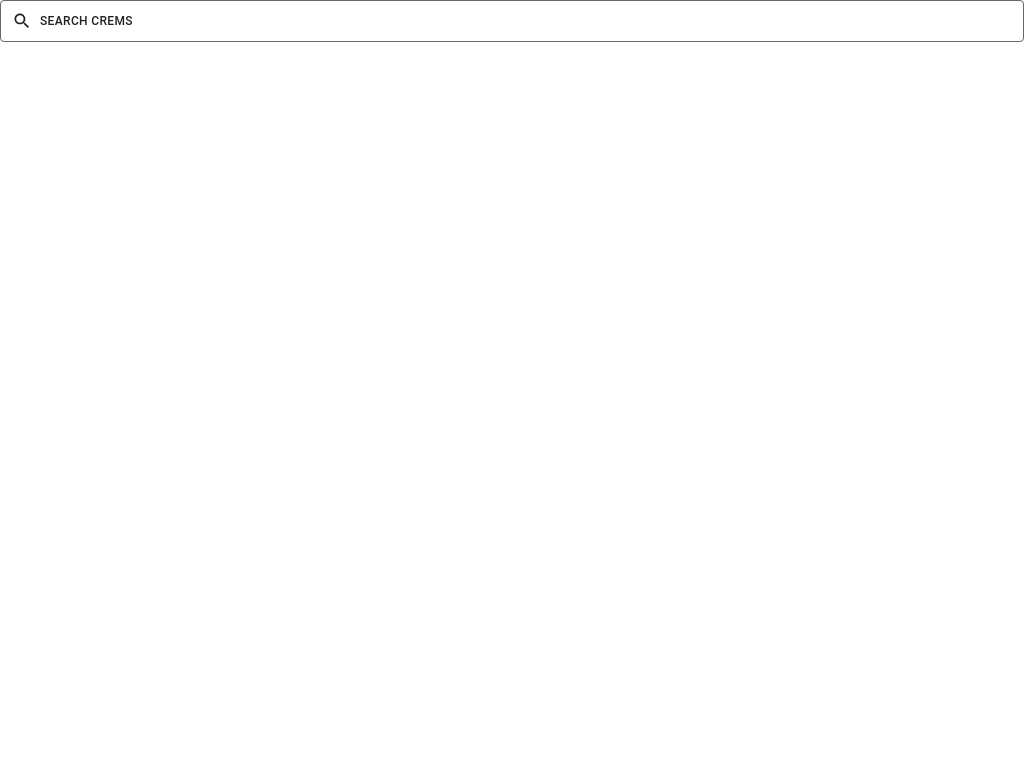
requires two characters before sending scoped search requests
Click the button "Search CREMS".
click(86, 21)  # box 0,0 -> 1023,42
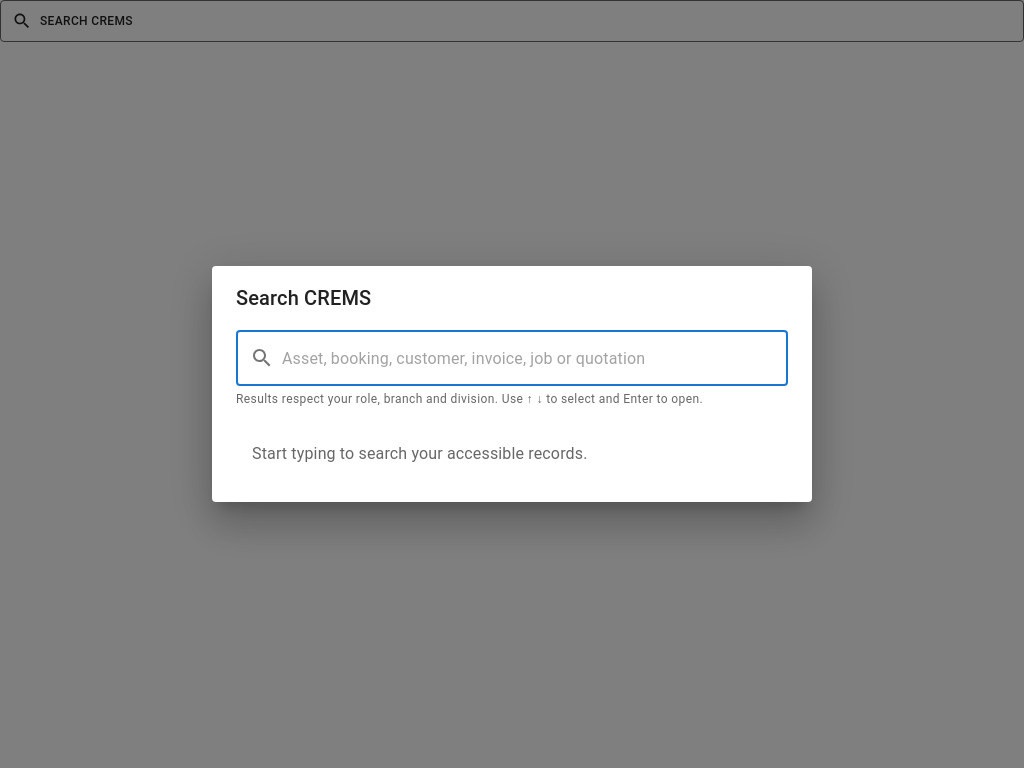
Expected: the text "Start typing to search your accessible records." is shown, 252,444 -> 588,463
Type "A" into the dropdown named "Search CREMS records".
click(535, 358); type("A")  # box 282,330 -> 788,386
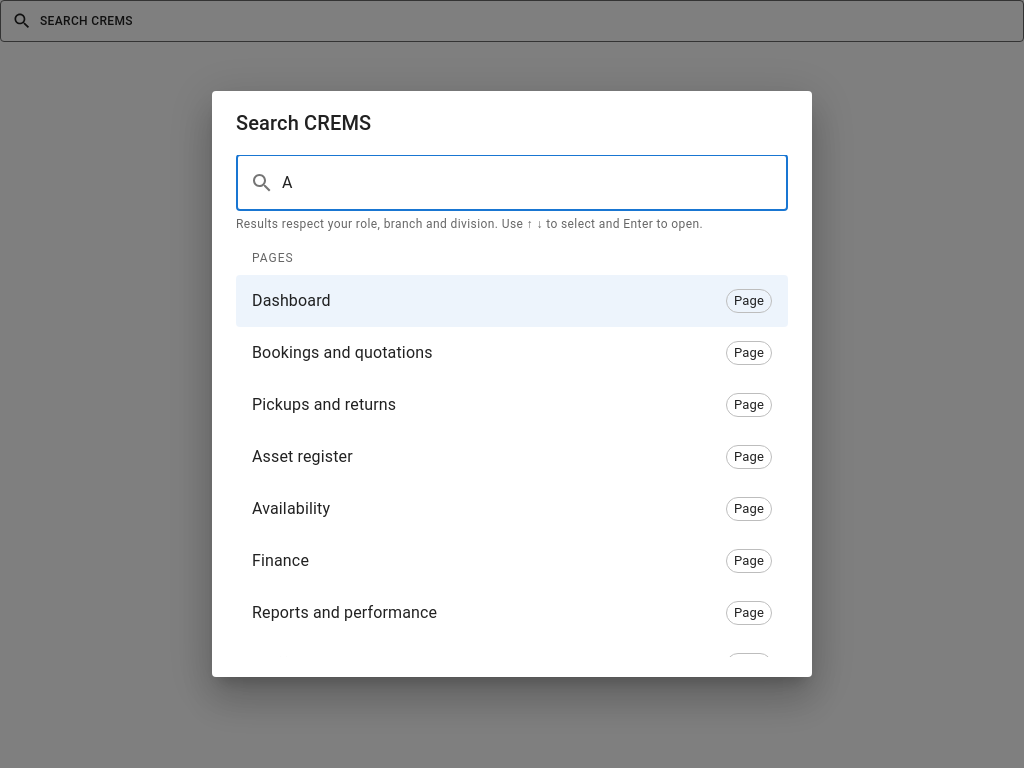
Replace the text in the dropdown named "Search CREMS records" with " CAR-1 " at x=535, y=183, box 282,155 -> 788,211
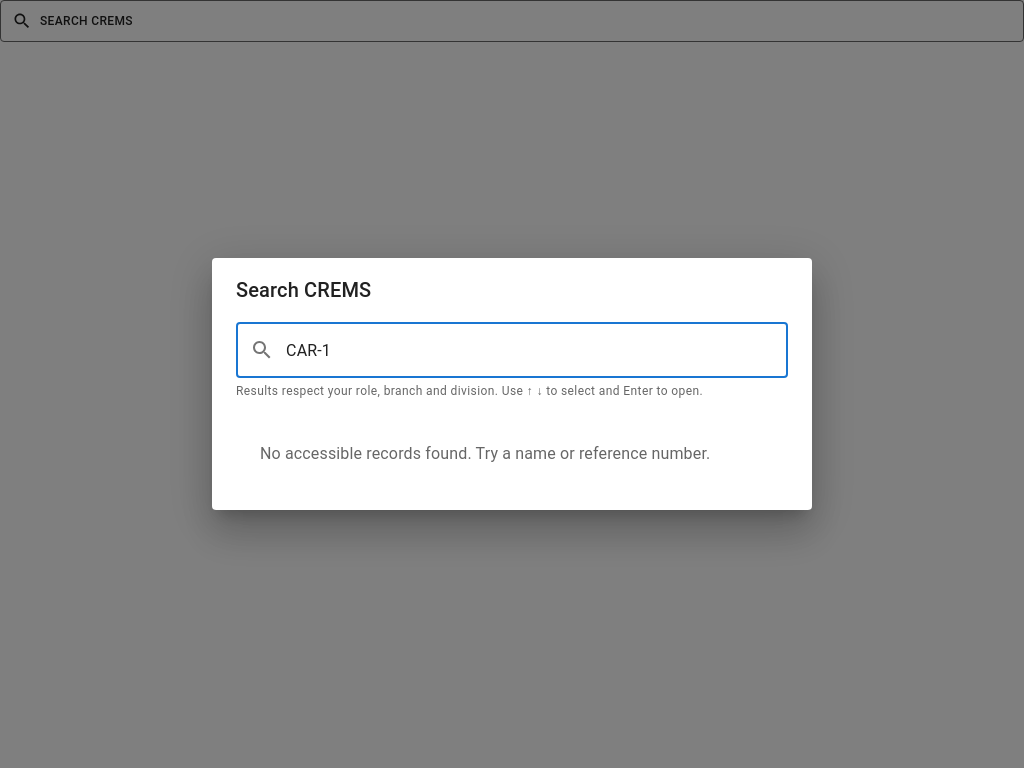
Expected: the text "No accessible records found. Try a name or reference number." is shown, 260,444 -> 710,463
